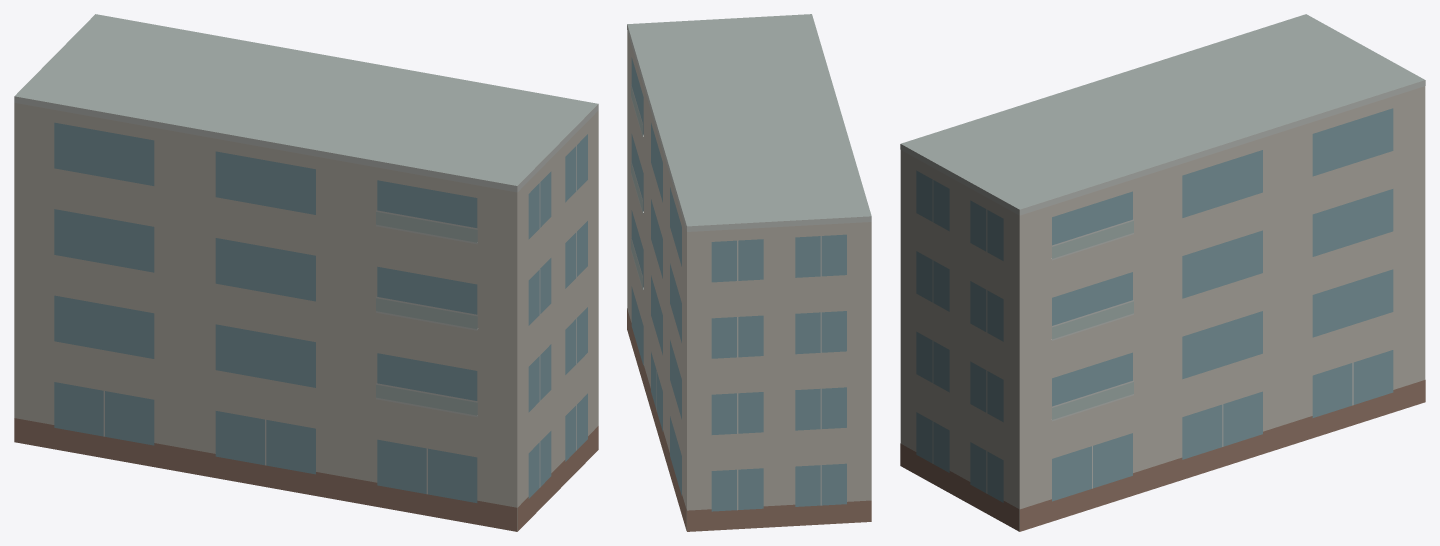
The model's file is survey-upis-32802305.glb.
The picture shows the model from 3 angles, left to right: view 1: azimuth 30°, elevation 25°; view 2: azimuth 150°, elevation 25°; view 3: azimuth 270°, elevation 25°; orthographic projection. The views are drawn at different scales.
Visible parts, largest first — view 1: survey-upis-32802305.tmp; view 2: survey-upis-32802305.tmp; view 3: survey-upis-32802305.tmp.
Boxes of the visible parts, left/top/right/bottom form: survey-upis-32802305.tmp: left=14, top=14, right=598, bottom=531; survey-upis-32802305.tmp: left=627, top=14, right=871, bottom=531; survey-upis-32802305.tmp: left=900, top=14, right=1425, bottom=531.
Size of the model in its own units: 17.21 by 13.2 by 19.5.
